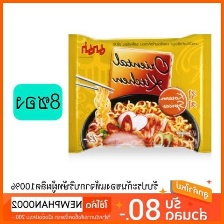snack: (62, 24, 217, 159)
